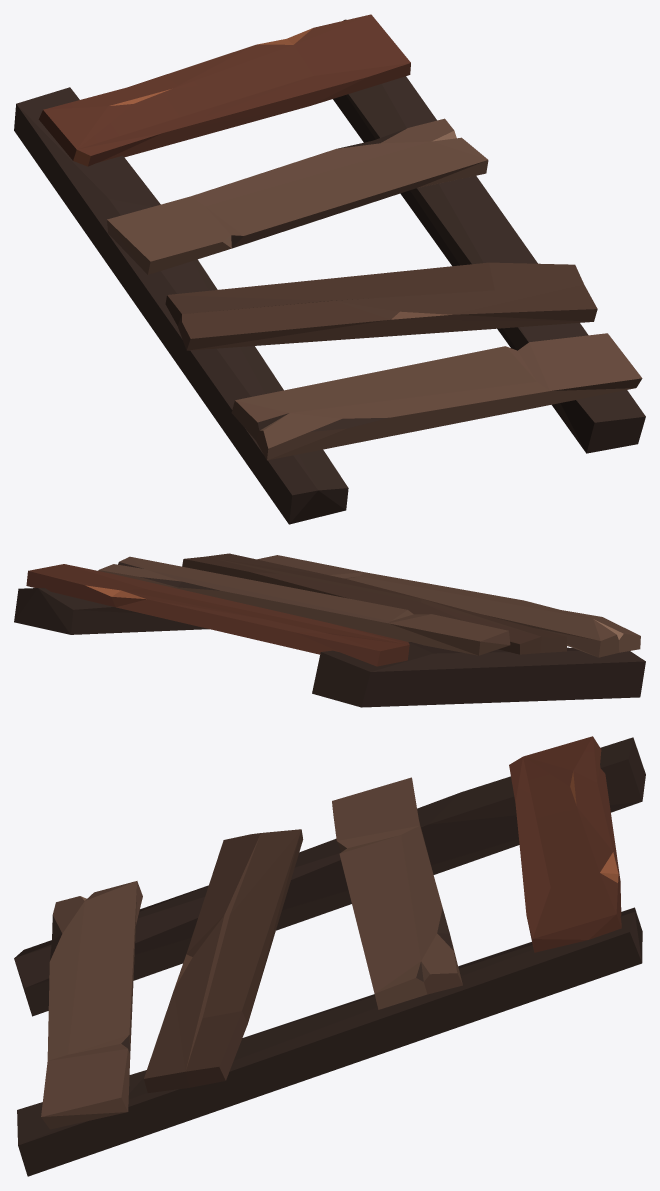
File: DocksModuleStairs_02.glb
The picture shows the model from 3 angles, top to bottom: view 1: azimuth 30°, elevation 25°; view 2: azimuth 150°, elevation 25°; view 3: azimuth 270°, elevation 25°; orthographic projection. The views are drawn at different scales.
Parts seen in each view (by area): view 1: DocksModuleStairs_02; view 2: DocksModuleStairs_02; view 3: DocksModuleStairs_02.
Part boxes in pixels (bbox=[...]): DocksModuleStairs_02: bbox=[14, 14, 645, 524]; DocksModuleStairs_02: bbox=[14, 553, 645, 707]; DocksModuleStairs_02: bbox=[14, 736, 645, 1176].
Size of what is drawn, in the model's own units: 1.59 by 0.935 by 2.05.
1 material, 1 textured.
